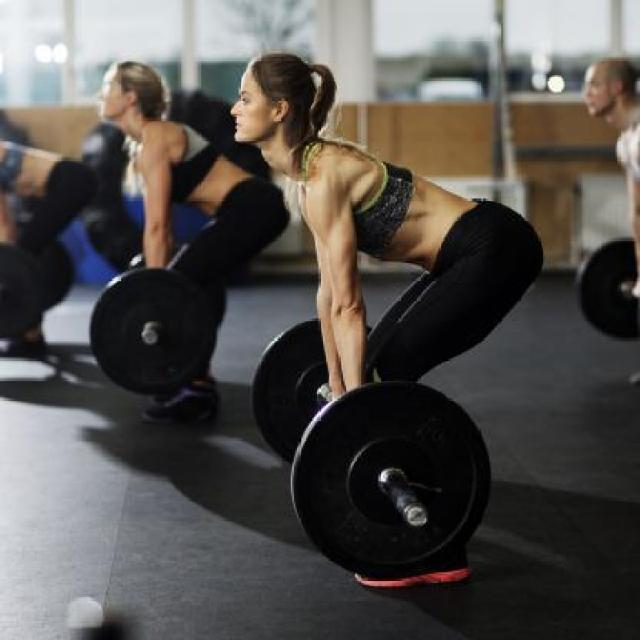barbell: (288, 378, 495, 579), (86, 264, 222, 402)
